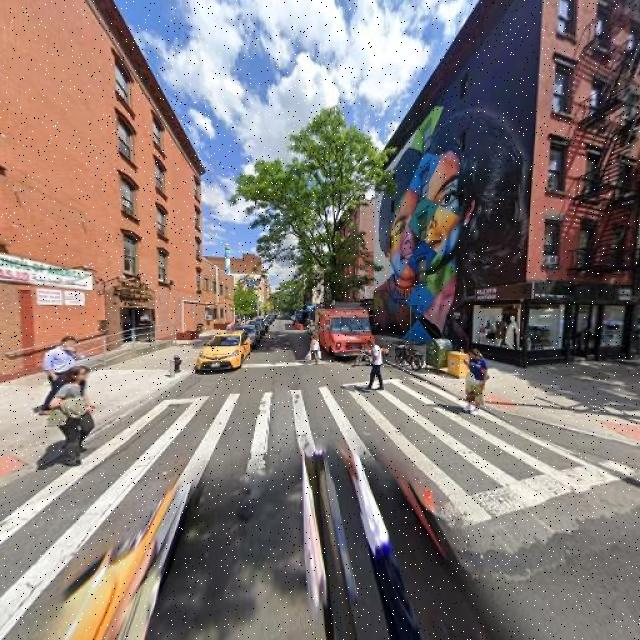Building: (374, 1, 637, 360), (1, 1, 202, 367)
